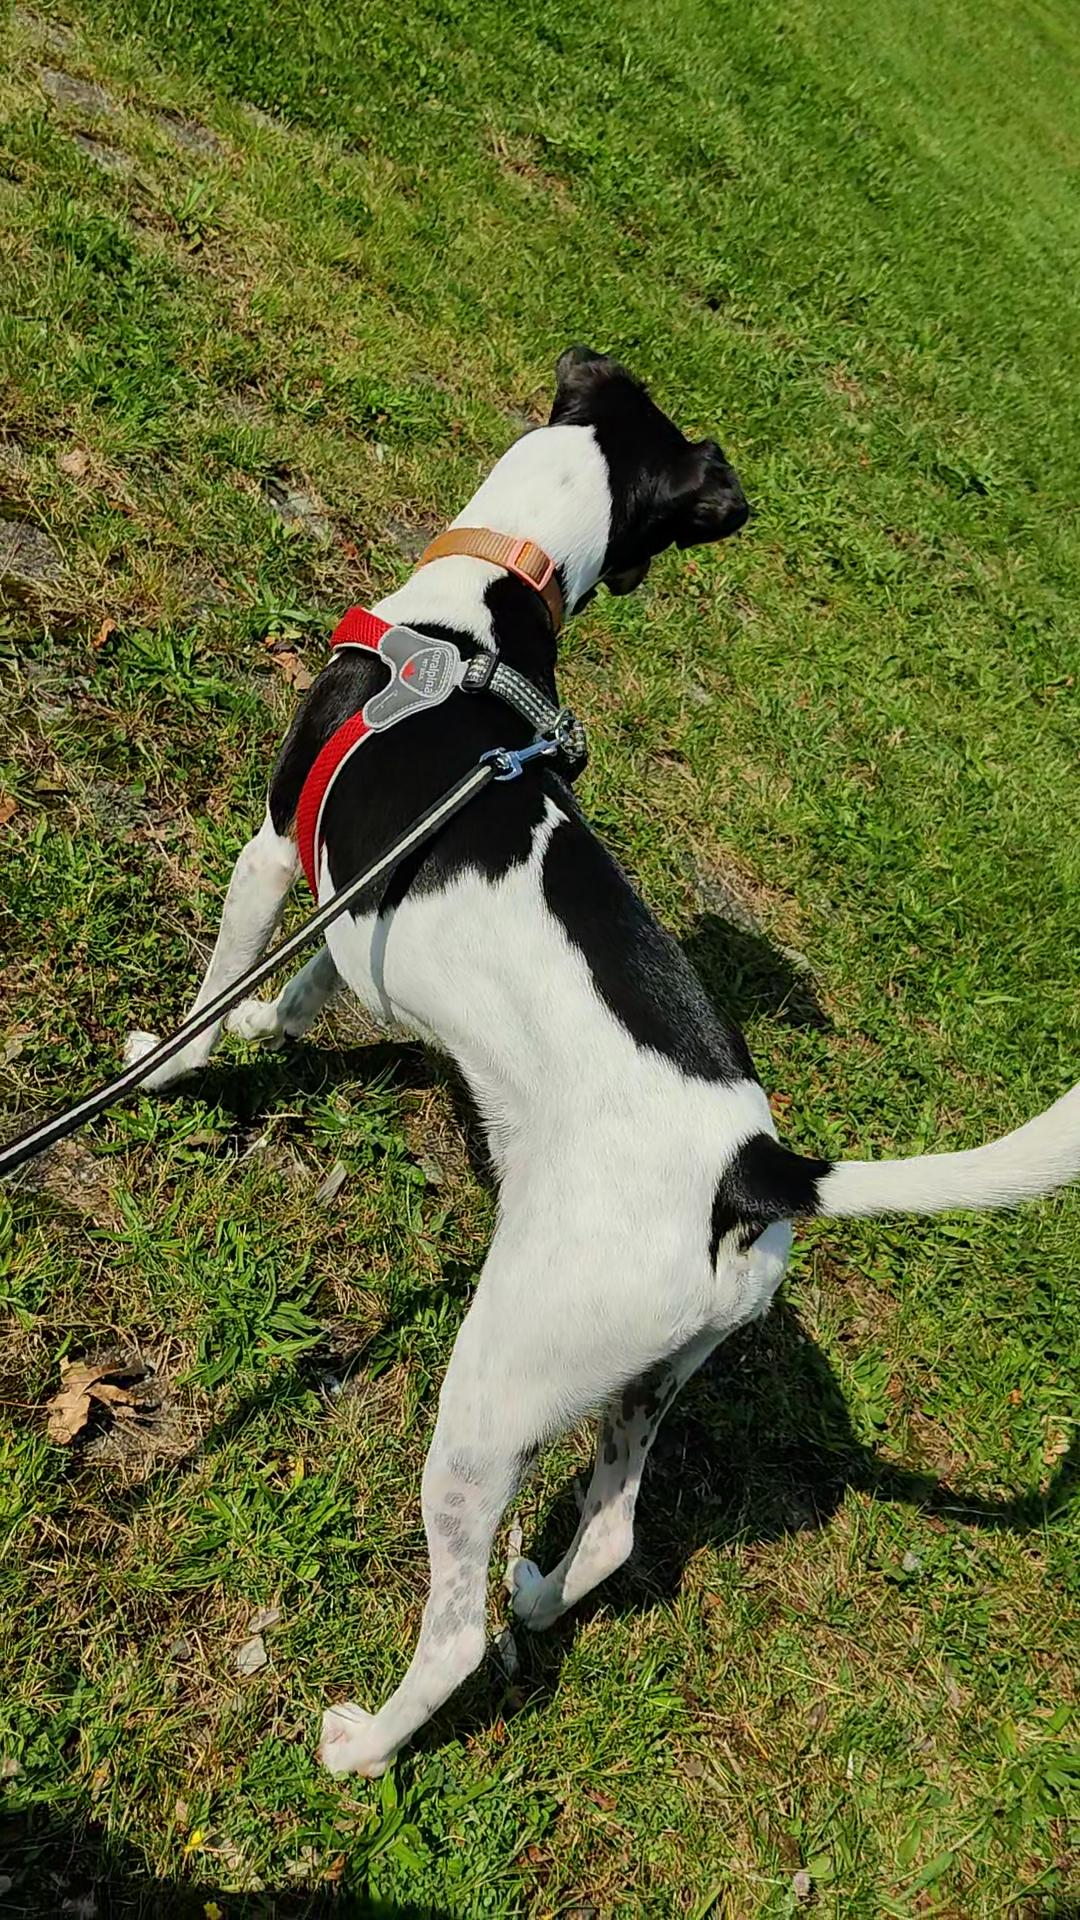Dog: (113, 342, 1079, 1779)
